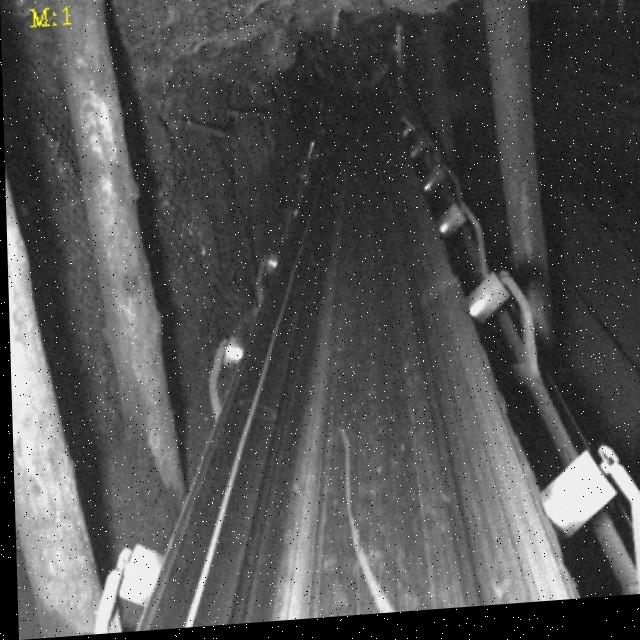bolt: (335, 429, 405, 621)
